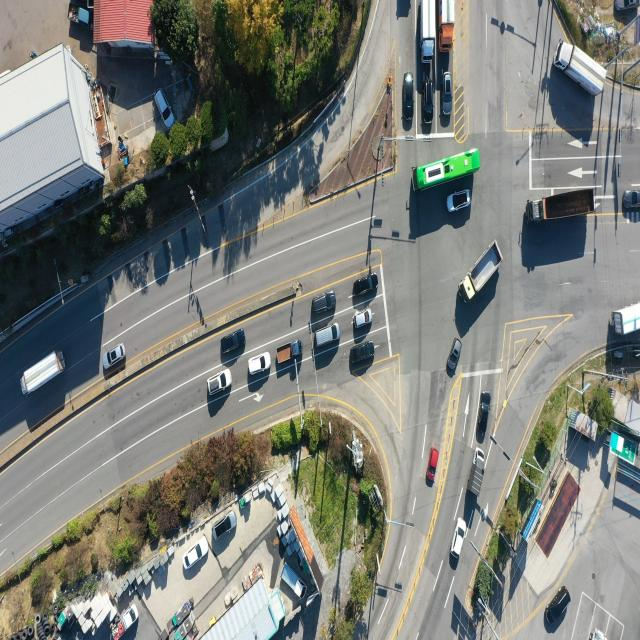car: (544, 584, 571, 629), (184, 538, 210, 572), (156, 88, 175, 128), (478, 393, 492, 443), (213, 510, 236, 540), (314, 322, 340, 348), (206, 371, 231, 397), (353, 274, 378, 299), (222, 328, 247, 353), (349, 342, 375, 366), (452, 517, 467, 558), (312, 292, 337, 316), (103, 343, 125, 370), (248, 350, 271, 375), (405, 72, 416, 124), (448, 338, 463, 376), (447, 189, 471, 212), (426, 447, 438, 488), (443, 72, 454, 116), (423, 83, 433, 123), (353, 308, 372, 329), (622, 188, 640, 207), (615, 0, 639, 12)
large_bus: (416, 147, 480, 190)
medium_truck: (554, 42, 602, 98), (531, 187, 597, 225), (464, 244, 503, 303), (22, 349, 68, 396), (421, 0, 438, 62), (615, 304, 640, 340), (442, 0, 457, 56)
small_truck: (110, 604, 138, 640), (279, 565, 308, 598), (470, 447, 488, 498), (275, 339, 301, 364), (68, 1, 90, 26)
